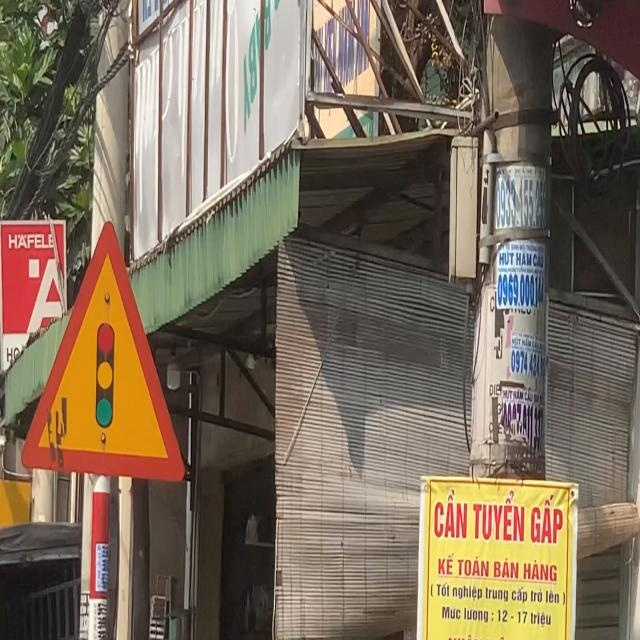bien_nguy_hiem: (18, 218, 187, 485)
